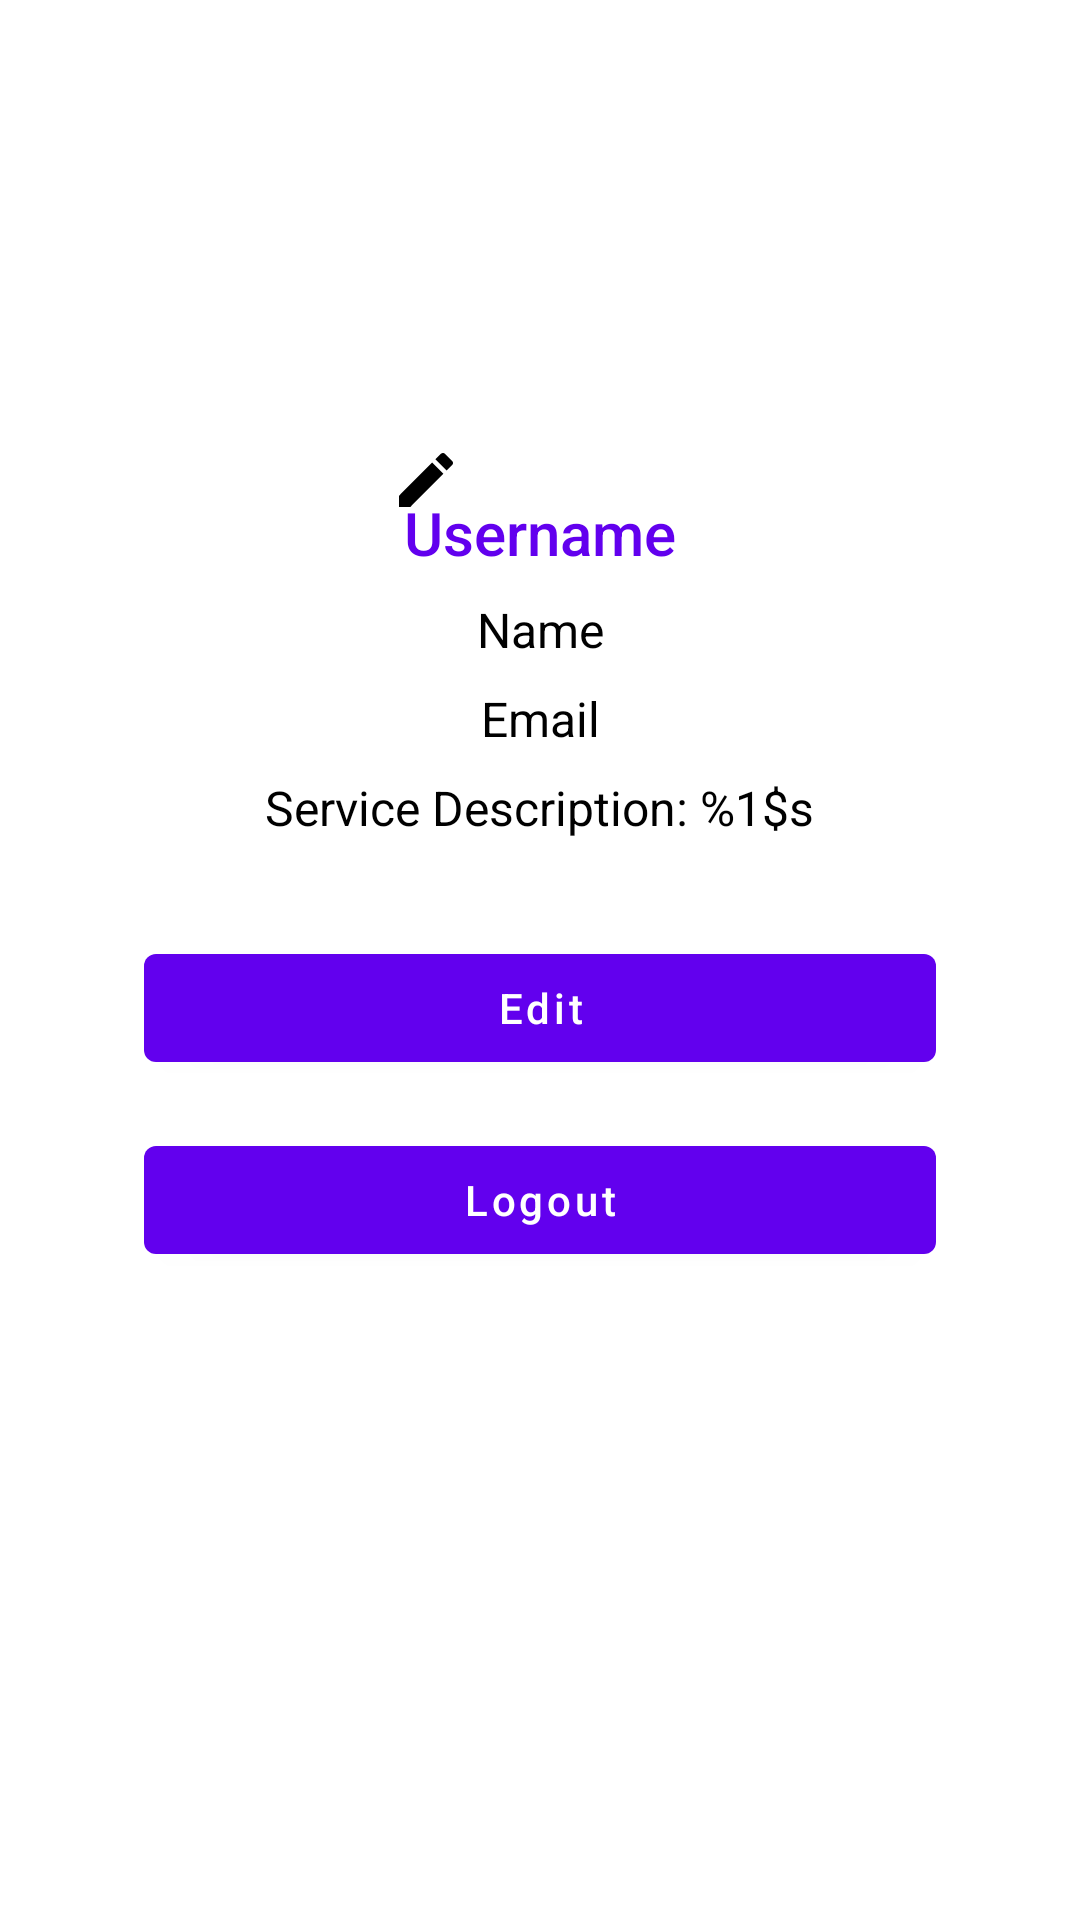

Locate icon controls on the screen. Image size 1080*1920, boxes as (x1, y1, x2, y2).
Edit Profile Image: (399, 453, 453, 507)
